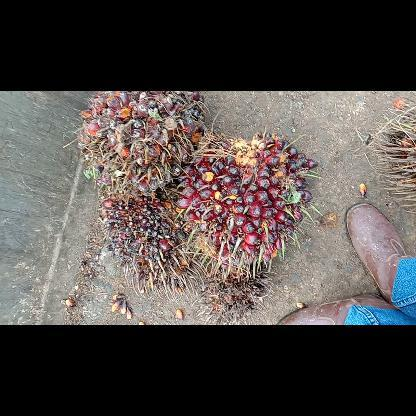TBS abnormal: (90, 184, 204, 300), (198, 266, 276, 324)
TBS masak: (172, 127, 320, 284), (74, 92, 208, 196)
